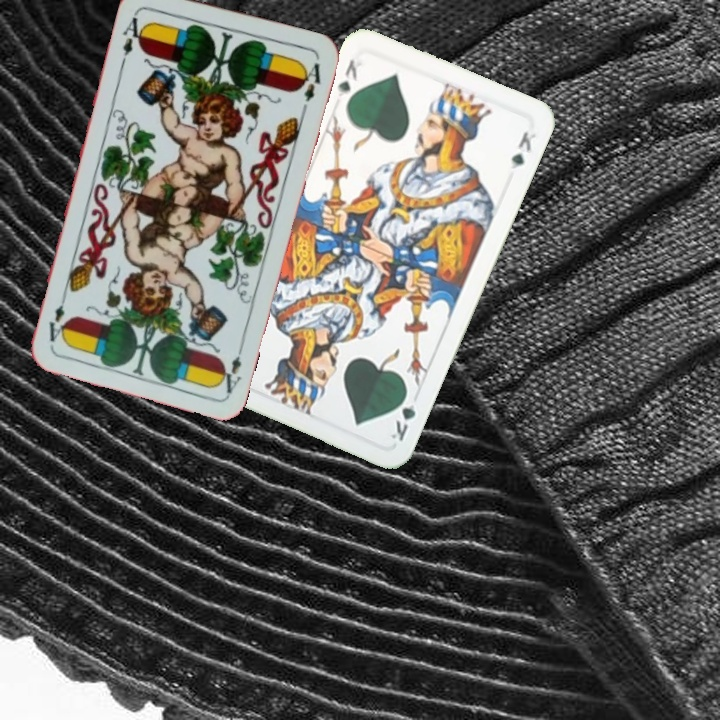EA: (214, 338, 247, 396), (117, 8, 148, 66)
GK: (387, 386, 420, 444), (333, 55, 365, 102)
